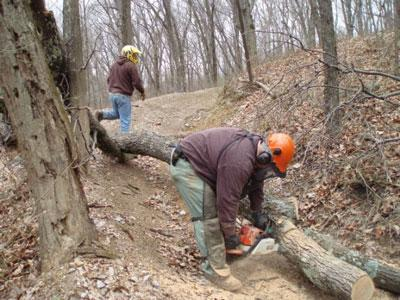person: (171, 126, 297, 292)
